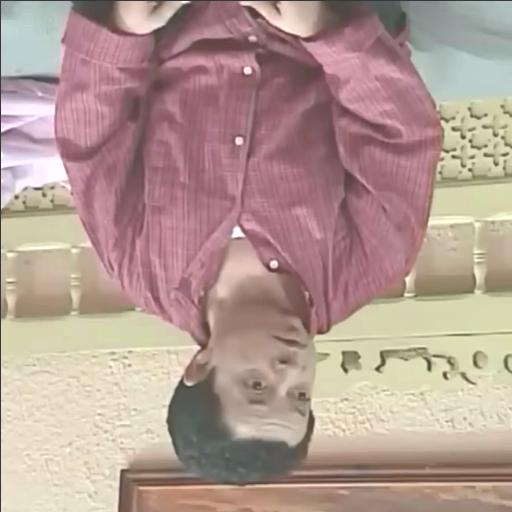fouchika: (166, 305, 316, 484)
